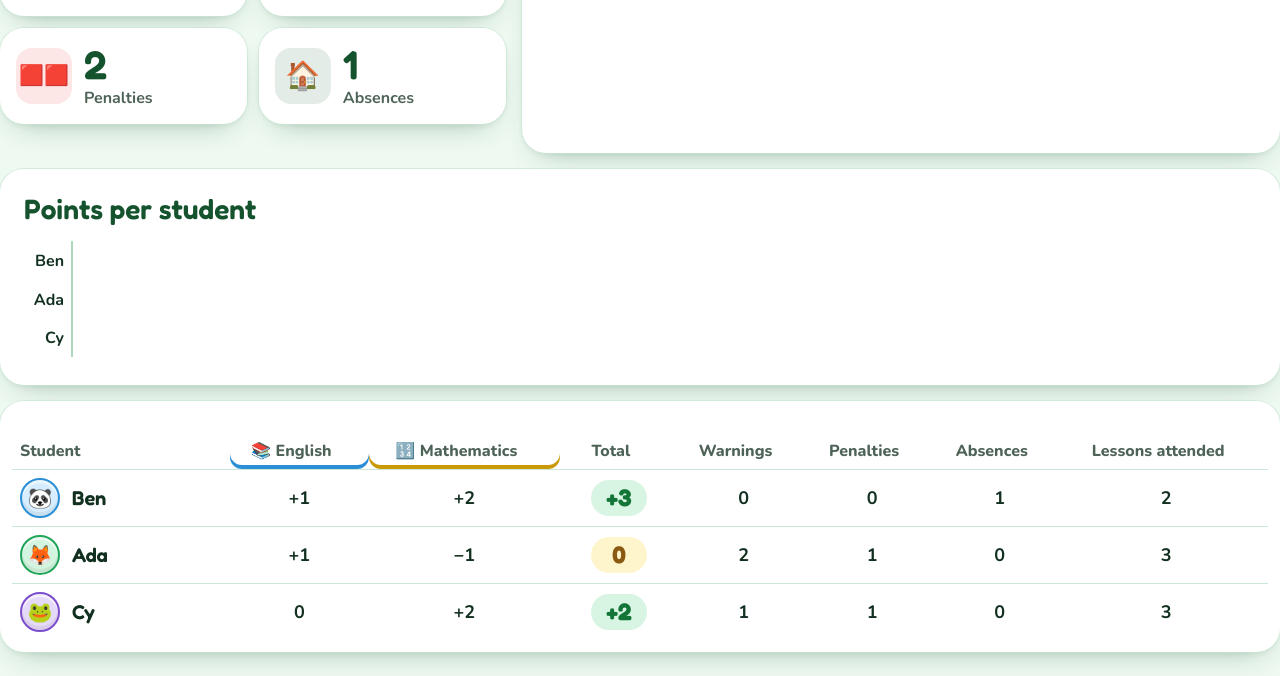
it: ReportsPage › opens the student report with the same params when a row is tapped
(page scrolled)
Click the row "Ada +1 −1 0 2 1 0 3": {"x": 640, "y": 555} [12,526,1268,583]
(page scrolled)
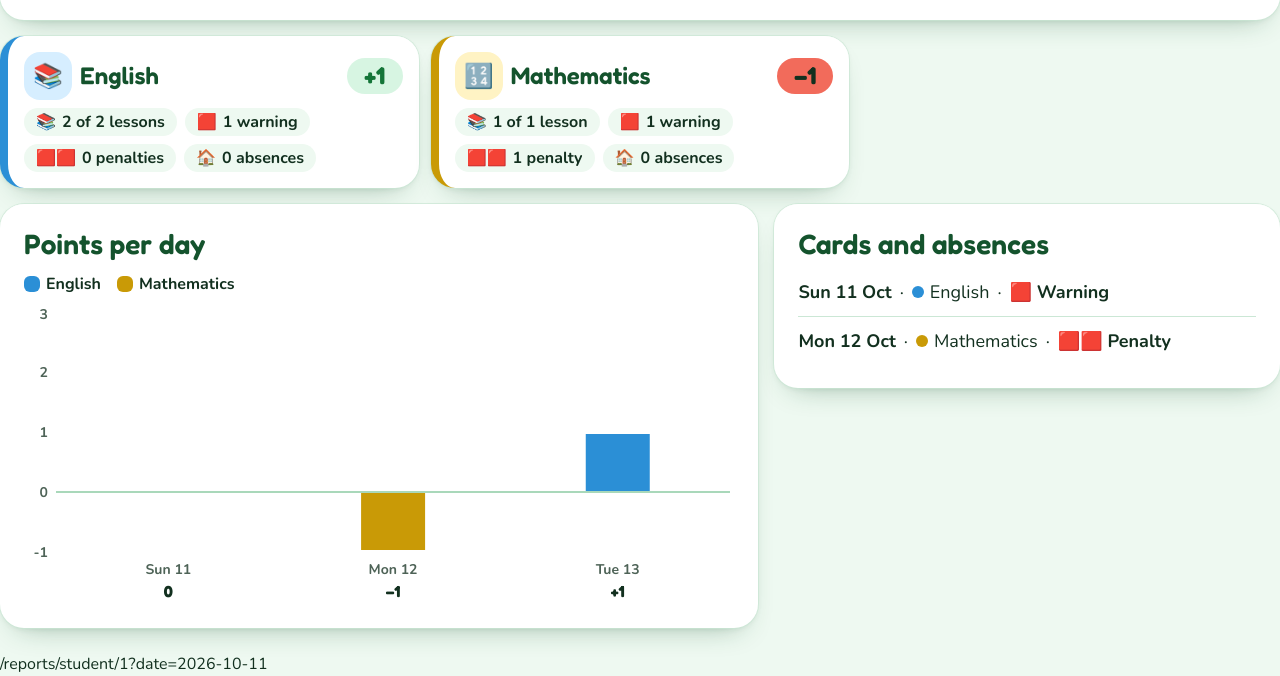
Expected: the text with test id "where" reads "/reports/student/1?date=2026-10-11", [0,653,268,675]
